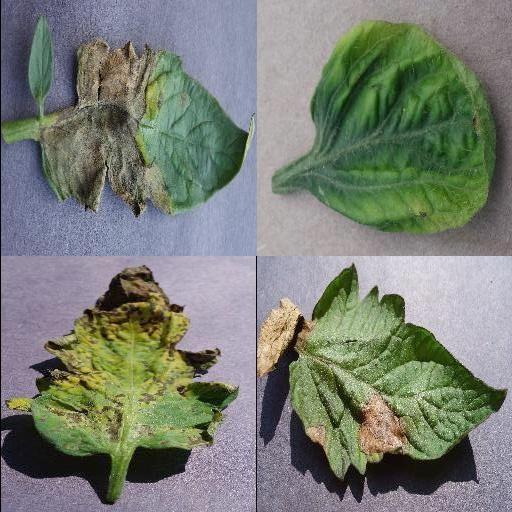Late Blight: (256, 261, 508, 477), (40, 38, 256, 220)
Septoria: (7, 263, 239, 459)
Yellow Leaf Curl Virus: (310, 20, 500, 234)
